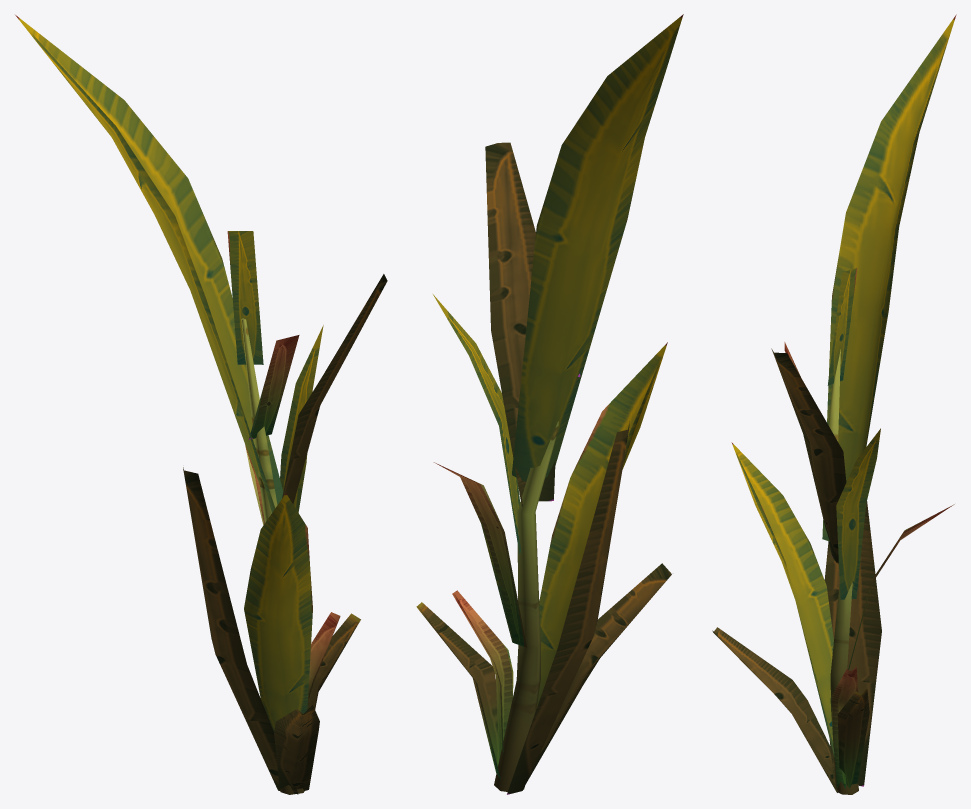
File: env_nature_foliage_reed01.fbx
3 renders of one model, left to right at view 1: azimuth 30°, elevation 25°; view 2: azimuth 150°, elevation 25°; view 3: azimuth 270°, elevation 25°, orthographic. The views are drawn at different scales.
Visible parts, largest first — view 1: env_nature_foliage_reed01; view 2: env_nature_foliage_reed01; view 3: env_nature_foliage_reed01.
Boxes of the visible parts, x1,y1,x2,y2 form: env_nature_foliage_reed01: (15,15,387,794); env_nature_foliage_reed01: (416,14,683,794); env_nature_foliage_reed01: (712,14,956,794).
Bounding box in the file's own units: 7.77 × 19.96 × 6.45.
